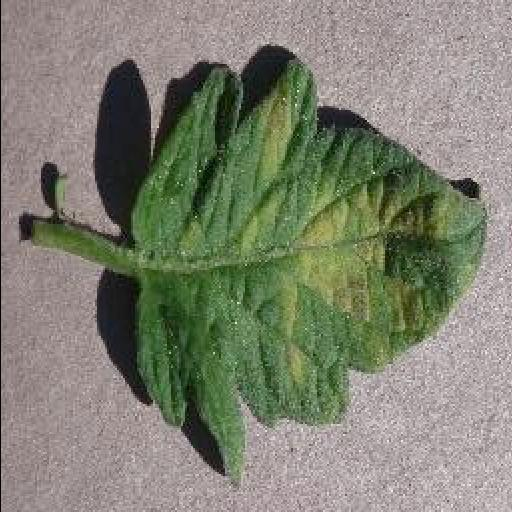disease_tomato: (130, 60, 488, 490)
